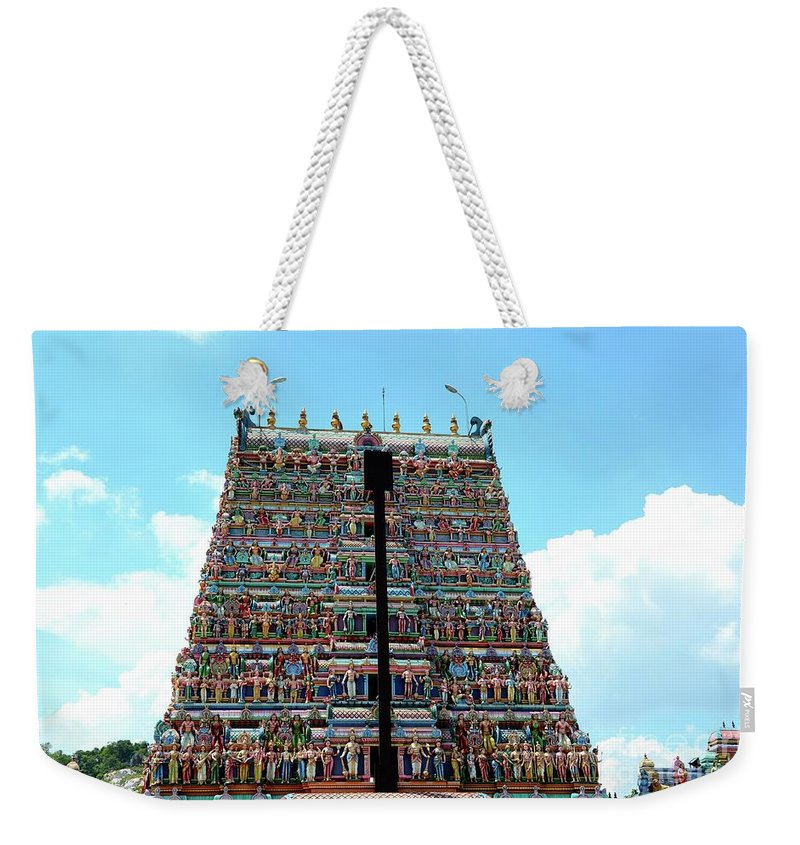Hindu Temple: (211, 400, 594, 801)
